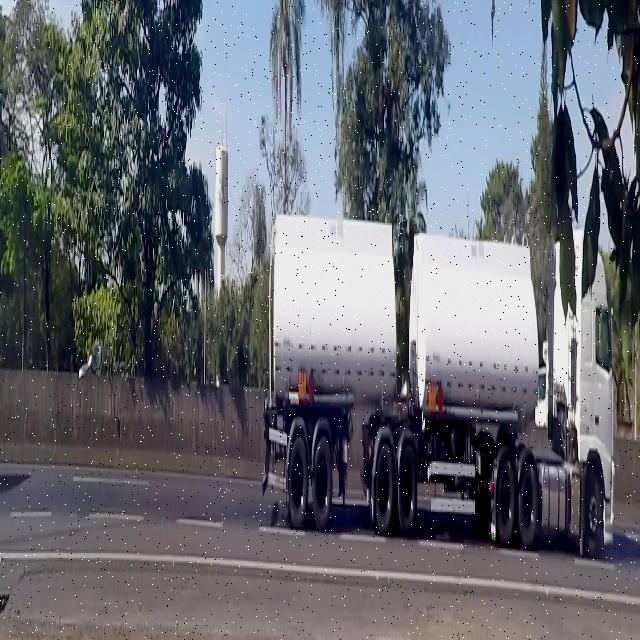-axle: (372, 436, 398, 539), (492, 454, 518, 556), (287, 424, 309, 530), (519, 457, 541, 553), (312, 429, 331, 532), (398, 443, 417, 544), (585, 476, 605, 567)
